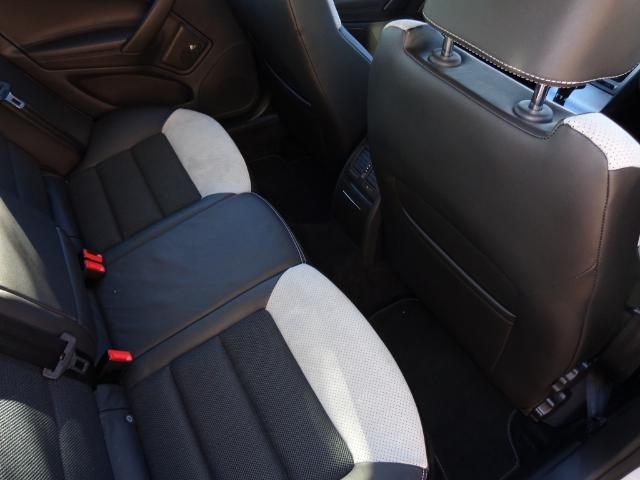Seatbelt: (0, 82, 82, 160), (0, 314, 84, 374)
